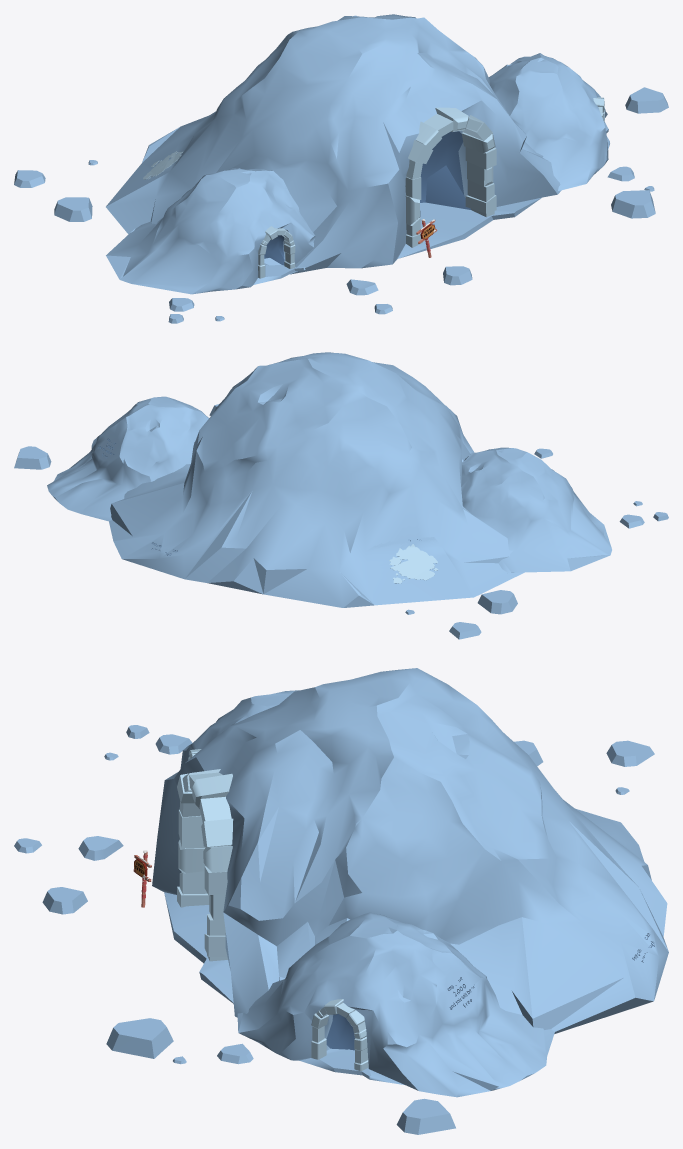
Rendered from Individual_Lobby_02.fbx.
3 renders of one model, top to bottom at view 1: azimuth 30°, elevation 25°; view 2: azimuth 150°, elevation 25°; view 3: azimuth 270°, elevation 25°, orthographic. The views are drawn at different scales.
Visible parts, largest first — view 1: polySurface352, pCube547, pCylinder160, polySurface323; view 2: polySurface352, pCube547, pasted__pCube550; view 3: polySurface352, pCylinder160, pCube547, polySurface323.
Boxes of the visible parts, x1,y1,x2,y2 form: polySurface352: (106, 14, 668, 314); pCube547: (14, 160, 315, 323); pCylinder160: (405, 107, 496, 247); polySurface323: (258, 226, 295, 278); polySurface352: (14, 352, 552, 607); pCube547: (405, 447, 668, 639); pasted__pCube550: (389, 544, 438, 583); polySurface352: (14, 668, 668, 1134); pCylinder160: (177, 769, 233, 961); pCube547: (104, 690, 654, 794); polySurface323: (311, 999, 368, 1070).
Bounding box in the file's own units: 2440 × 651 × 1683.
